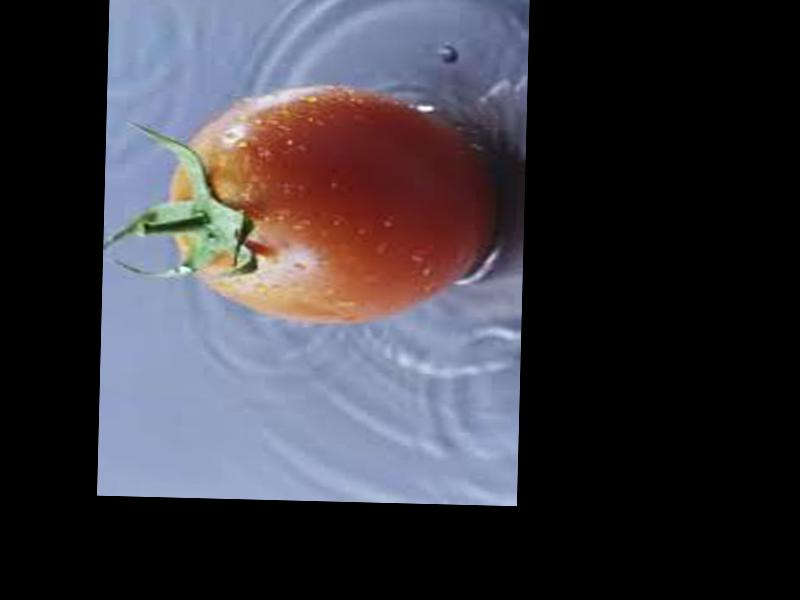Tomato: (168, 85, 499, 326)
